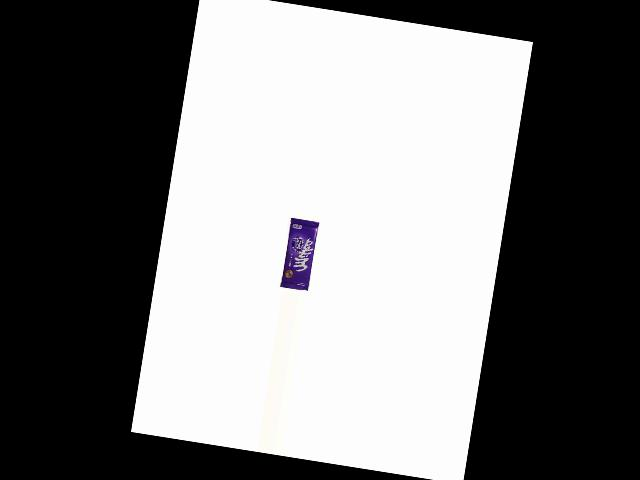chocolate: (276, 213, 321, 292)
